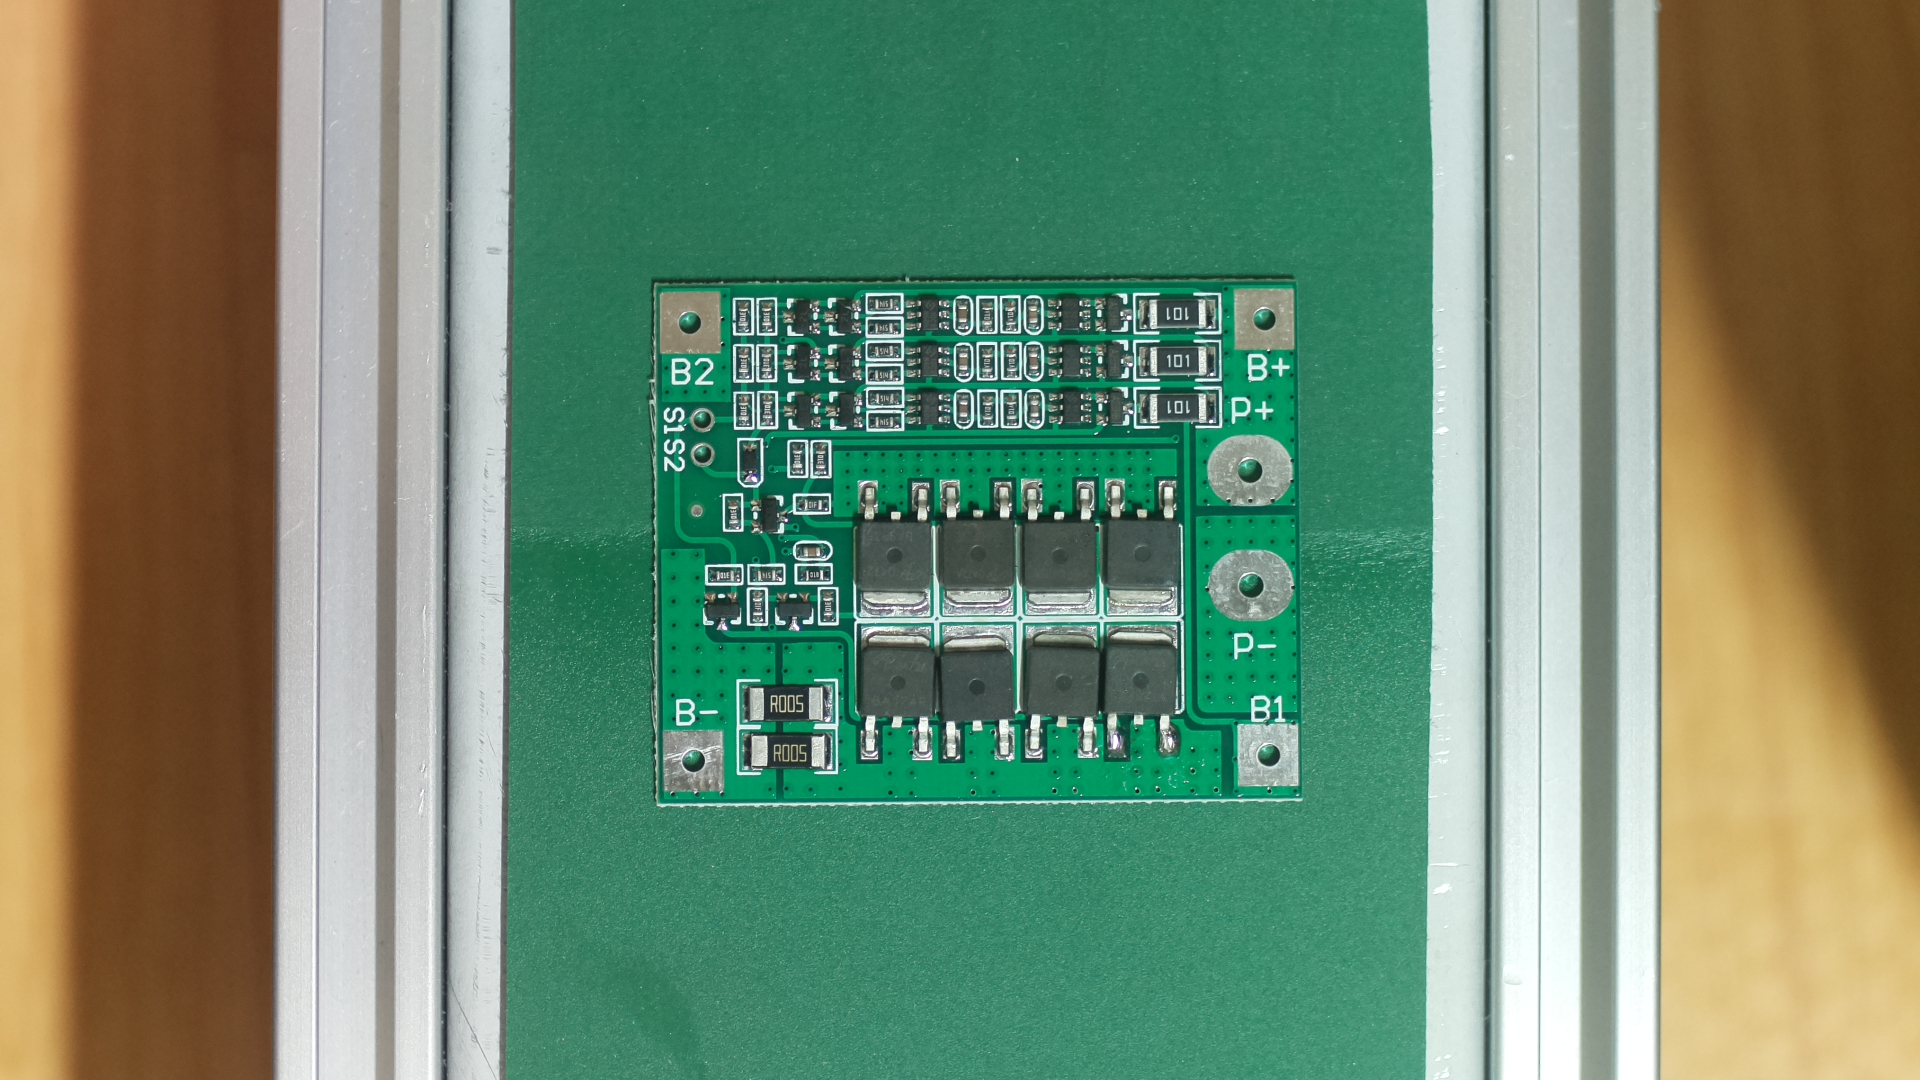C_Normal: (642, 266, 1311, 814)
